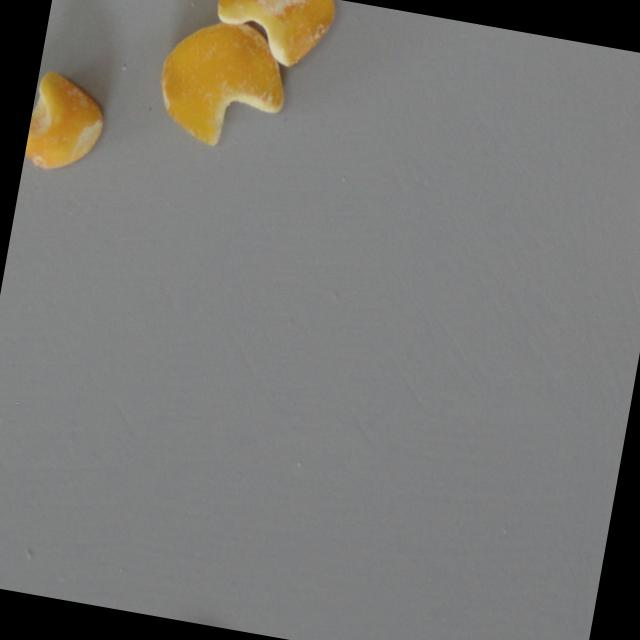pelicula: (151, 6, 297, 154), (23, 65, 113, 176), (205, 0, 337, 73)
